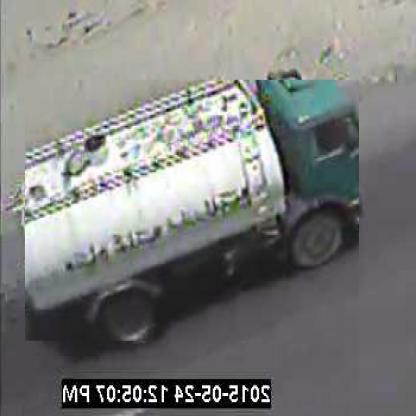truck: (25, 81, 360, 343)
